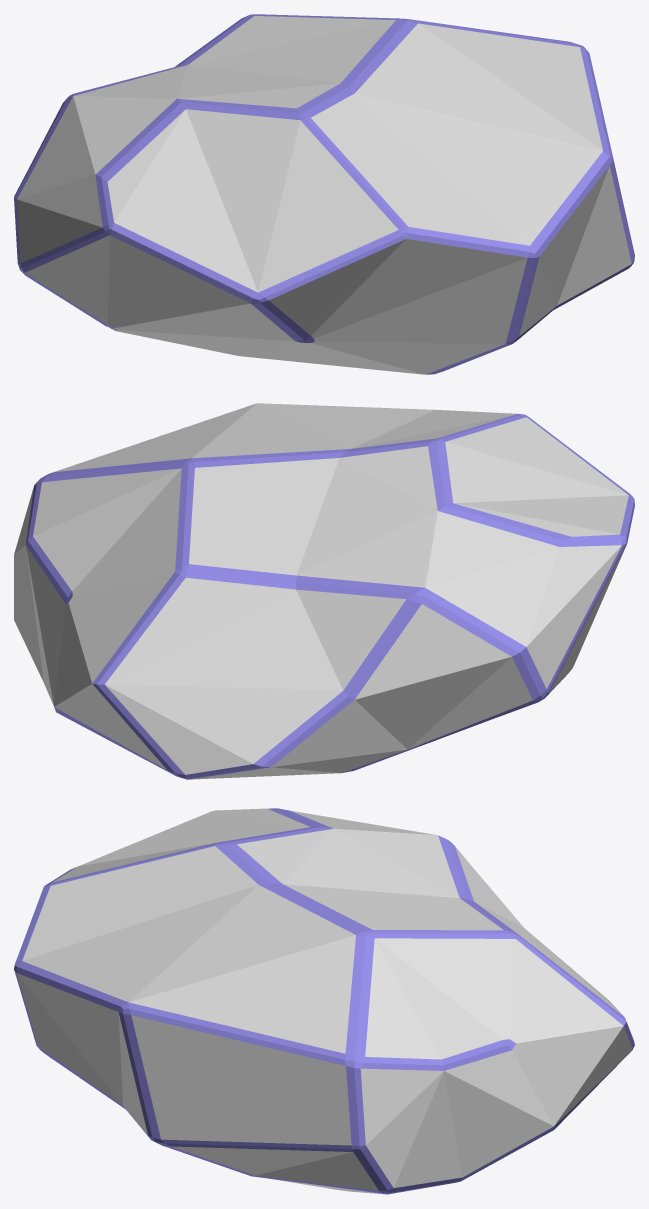
The model's file is stone_005.fbx.
The picture shows the model from 3 angles, top to bottom: view 1: azimuth 30°, elevation 25°; view 2: azimuth 150°, elevation 25°; view 3: azimuth 270°, elevation 25°; orthographic projection. The views are drawn at different scales.
Parts seen in each view (by area): view 1: stone; view 2: stone; view 3: stone.
Part boxes in pixels (x1,y1,x2,y2): stone: (14, 14, 634, 374); stone: (14, 403, 634, 779); stone: (14, 808, 634, 1194).
Bounding box in the file's own units: 147 × 67.18 × 154.
